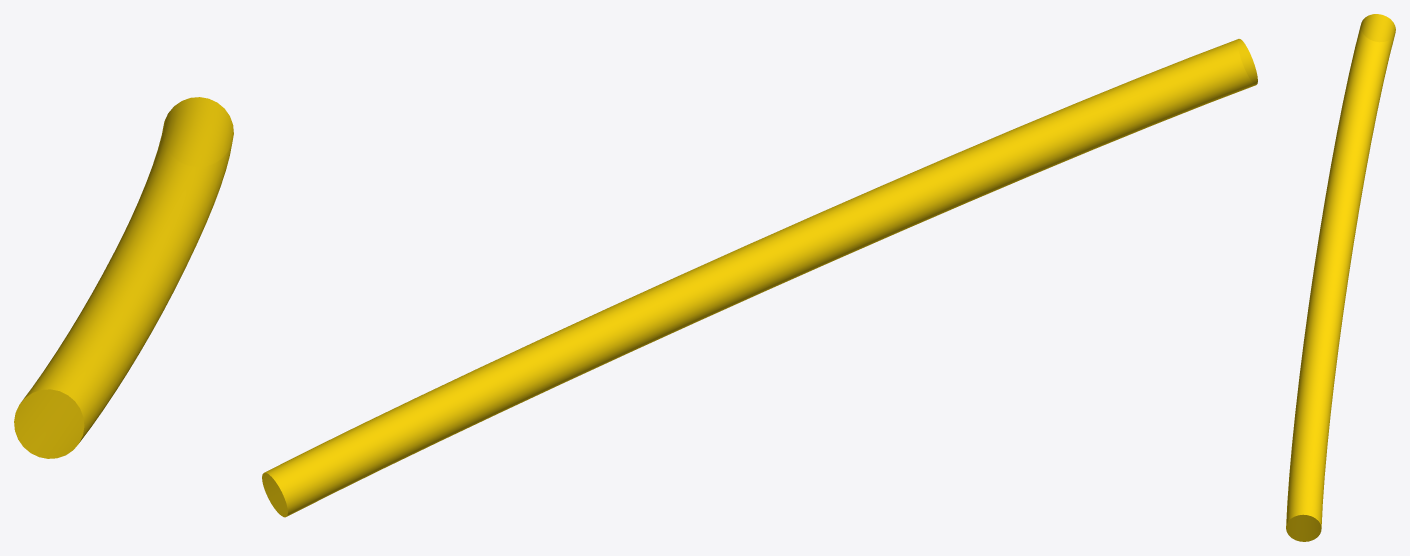
Rendered from Event_421115418_track_116.fbx.
The picture shows the model from 3 angles, left to right: view 1: azimuth 90°, elevation 25°; view 2: azimuth 210°, elevation 25°; view 3: azimuth 270°, elevation 25°; orthographic projection. The views are drawn at different scales.
Parts seen in each view (by area): view 1: Model; view 2: Model; view 3: Model.
Boxes of the visible parts, x1=… form: Model: x1=14, y1=97, x2=233, y2=458; Model: x1=262, y1=39, x2=1257, y2=517; Model: x1=1286, y1=14, x2=1395, y2=541.
Bounding box in the file's own units: 0.8687 × 0.2581 × 0.1234.
